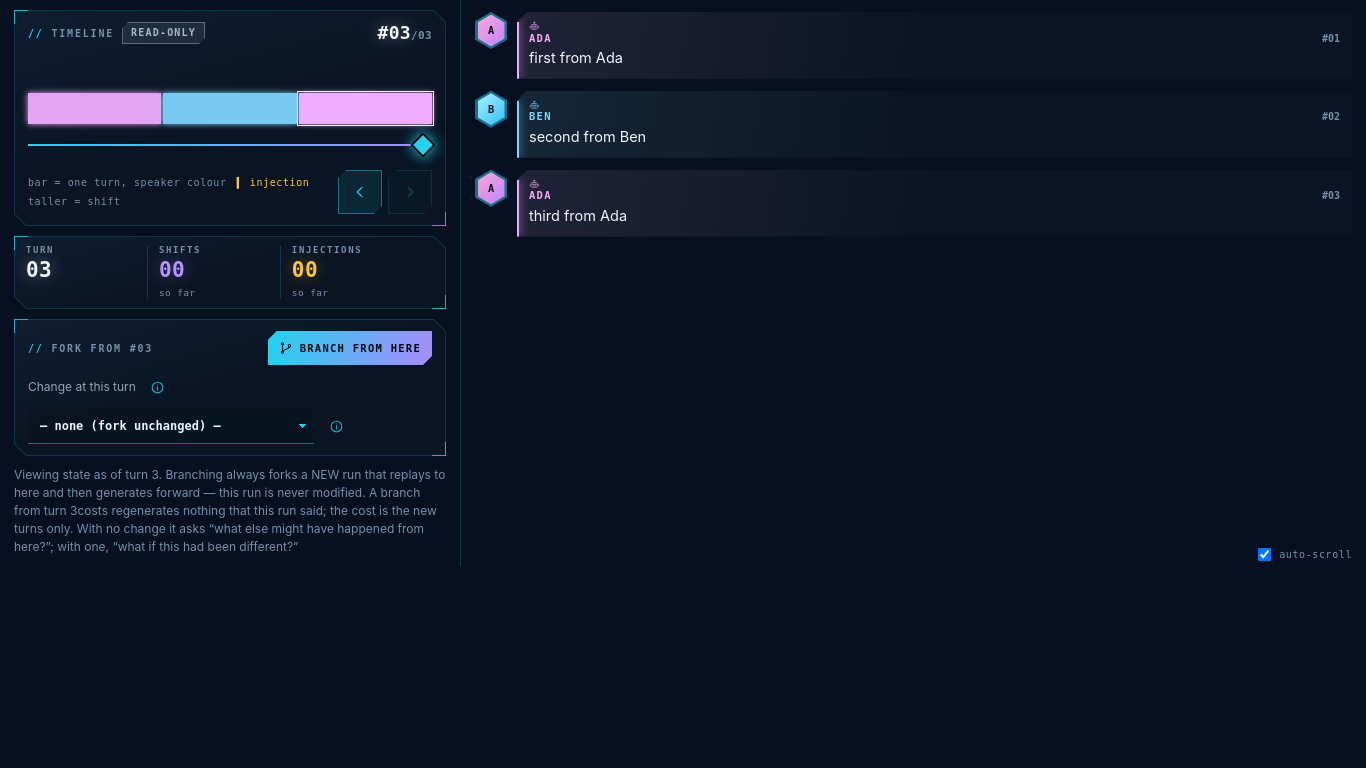
Test: Scrubber › scrubbing to an earlier turn shows only state up to that turn
Expected: the text "third from Ada" is shown, [529,207,627,224]
Note: Move the slider back to turn 1 — only Ada's first message should remain.
Set the slider named "checkpoint turn" to "1" at [165, 145], box [28,130,432,160]
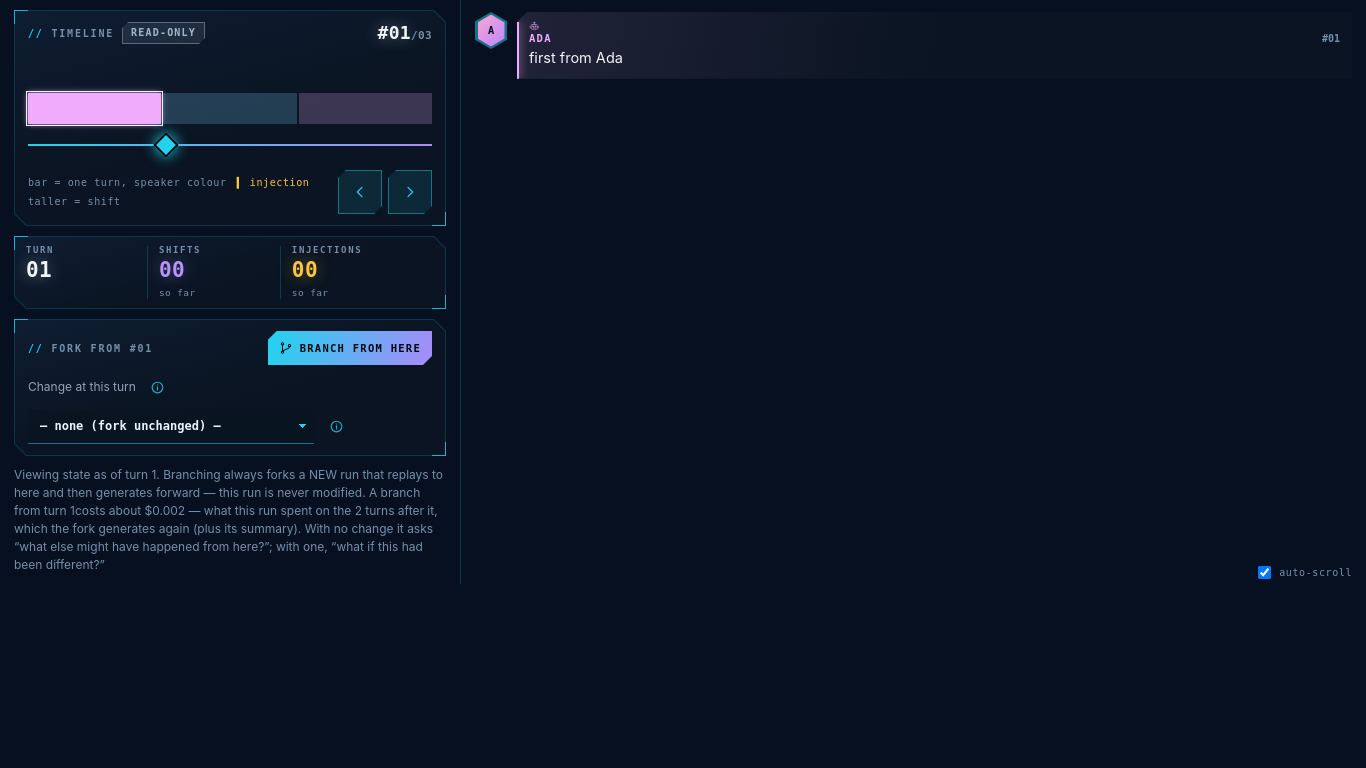
Expected: the text "first from Ada" is shown, [529,49,623,66]
Expected: the text "second from Ben" is gone
Expected: the text "third from Ada" is gone
